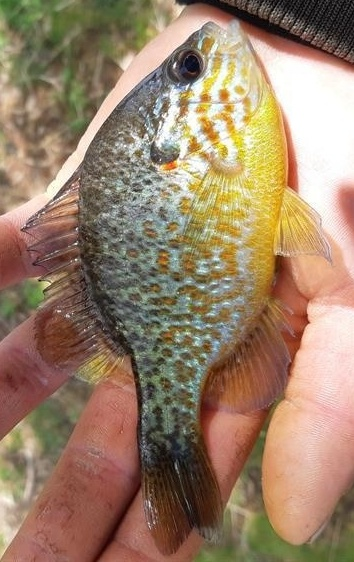Lepomis gibbosus: (20, 20, 334, 556)
